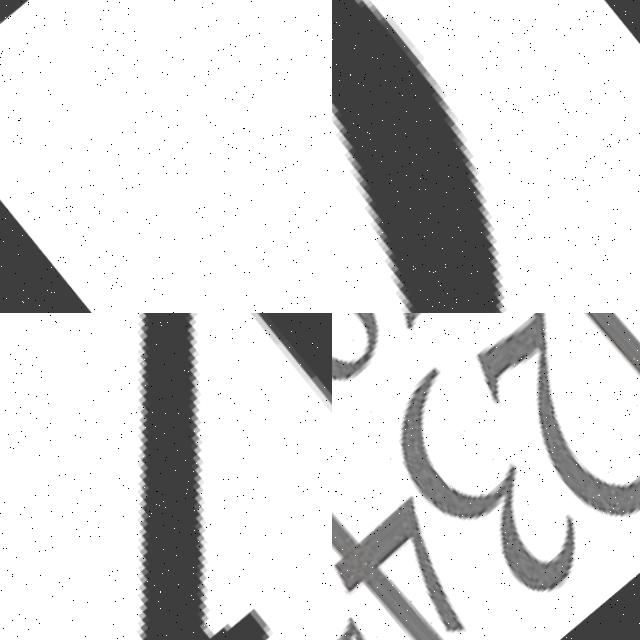0: (332, 0, 640, 313)
1: (540, 313, 640, 472)
2: (448, 313, 640, 557)
3: (350, 349, 621, 637)
4: (332, 436, 542, 640)
5: (332, 496, 450, 640)
L: (0, 0, 332, 313)
V: (0, 313, 332, 640)
